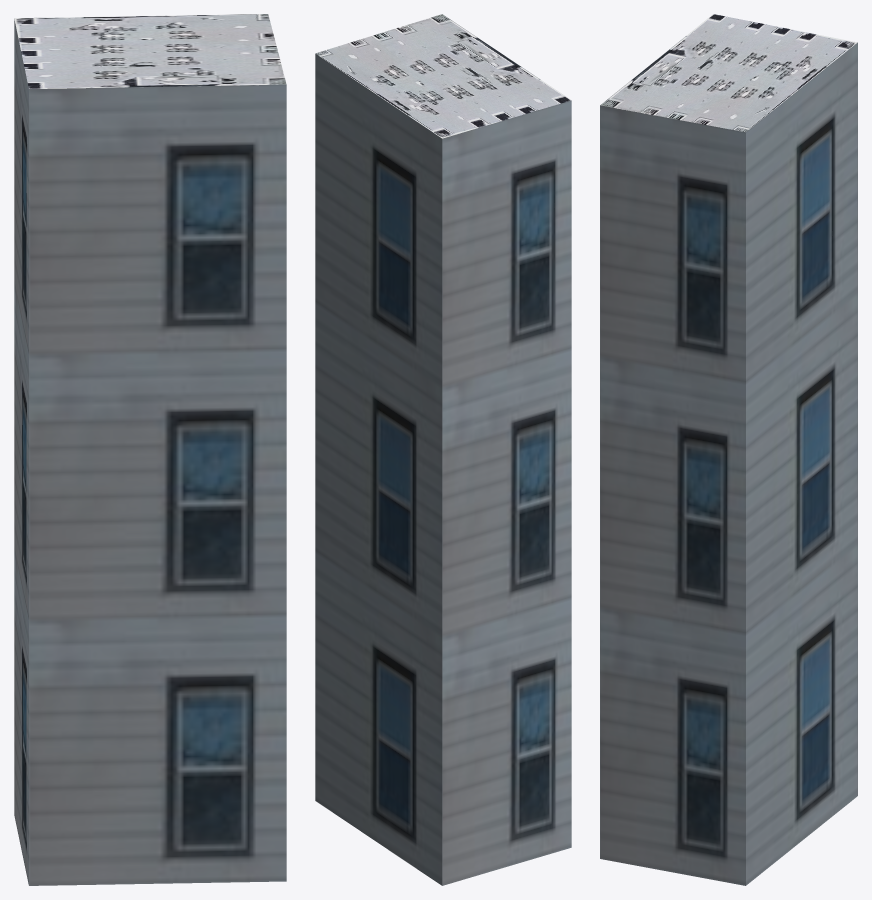
Rendered from ResTex__4080.fbx.
The picture shows the model from 3 angles, left to right: view 1: azimuth 30°, elevation 25°; view 2: azimuth 150°, elevation 25°; view 3: azimuth 270°, elevation 25°; orthographic projection. The views are drawn at different scales.
Parts seen in each view (by area): view 1: CityEngineMaterial_18_m, CityEngineMaterial_2_m; view 2: CityEngineMaterial_18_m, CityEngineMaterial_2_m; view 3: CityEngineMaterial_18_m, CityEngineMaterial_2_m.
Boxes of the visible parts, bbox=[...] form: CityEngineMaterial_18_m: bbox=[14, 19, 286, 885]; CityEngineMaterial_2_m: bbox=[14, 14, 286, 88]; CityEngineMaterial_18_m: bbox=[315, 54, 571, 885]; CityEngineMaterial_2_m: bbox=[315, 14, 571, 138]; CityEngineMaterial_18_m: bbox=[600, 42, 857, 885]; CityEngineMaterial_2_m: bbox=[600, 14, 857, 132].
Size of the model in its own units: 3.03 by 9 by 2.79.
Materials: 2 (2 with a texture image).
